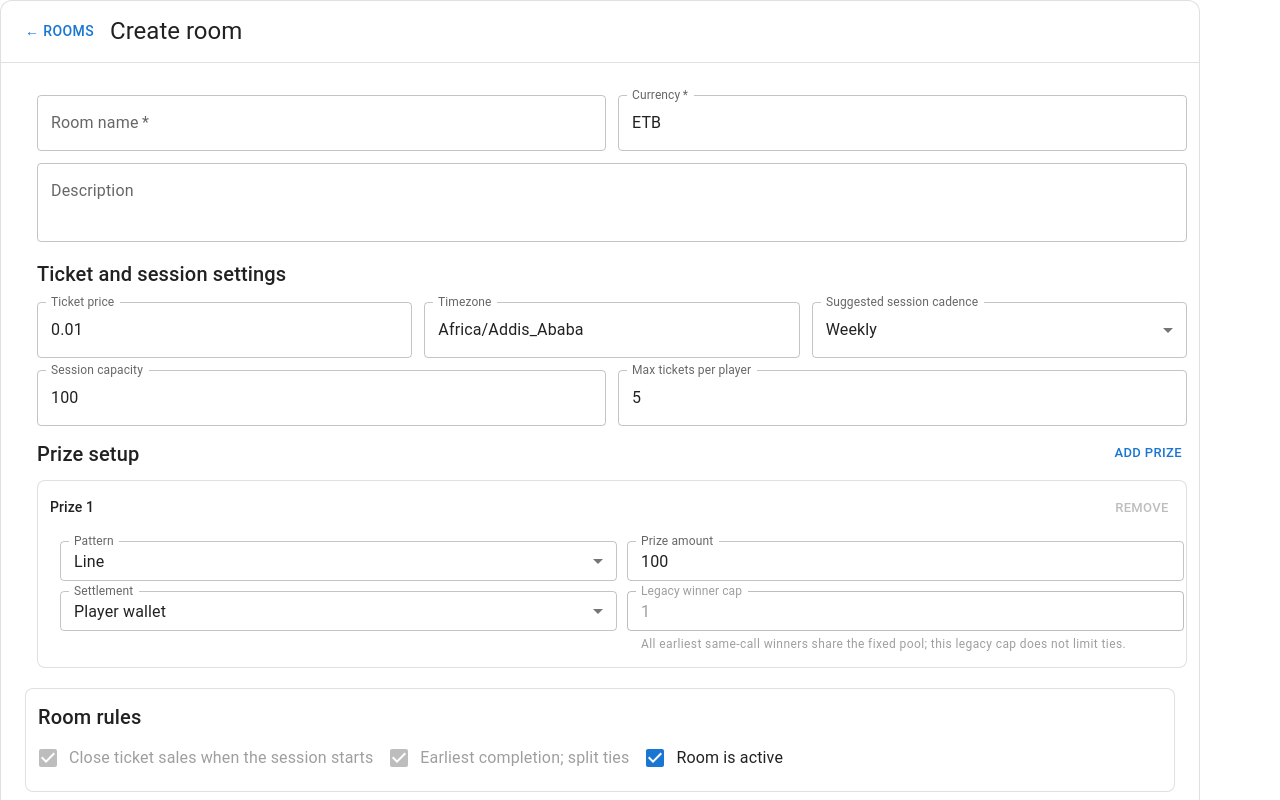
Test: RoomsPage › offers common 75-ball patterns in prize setup
What coordinates should you click on to do the following:
click the dropdown named "Pattern"
I would click on:
 (89, 561)
Its box is [74,552,104,571].
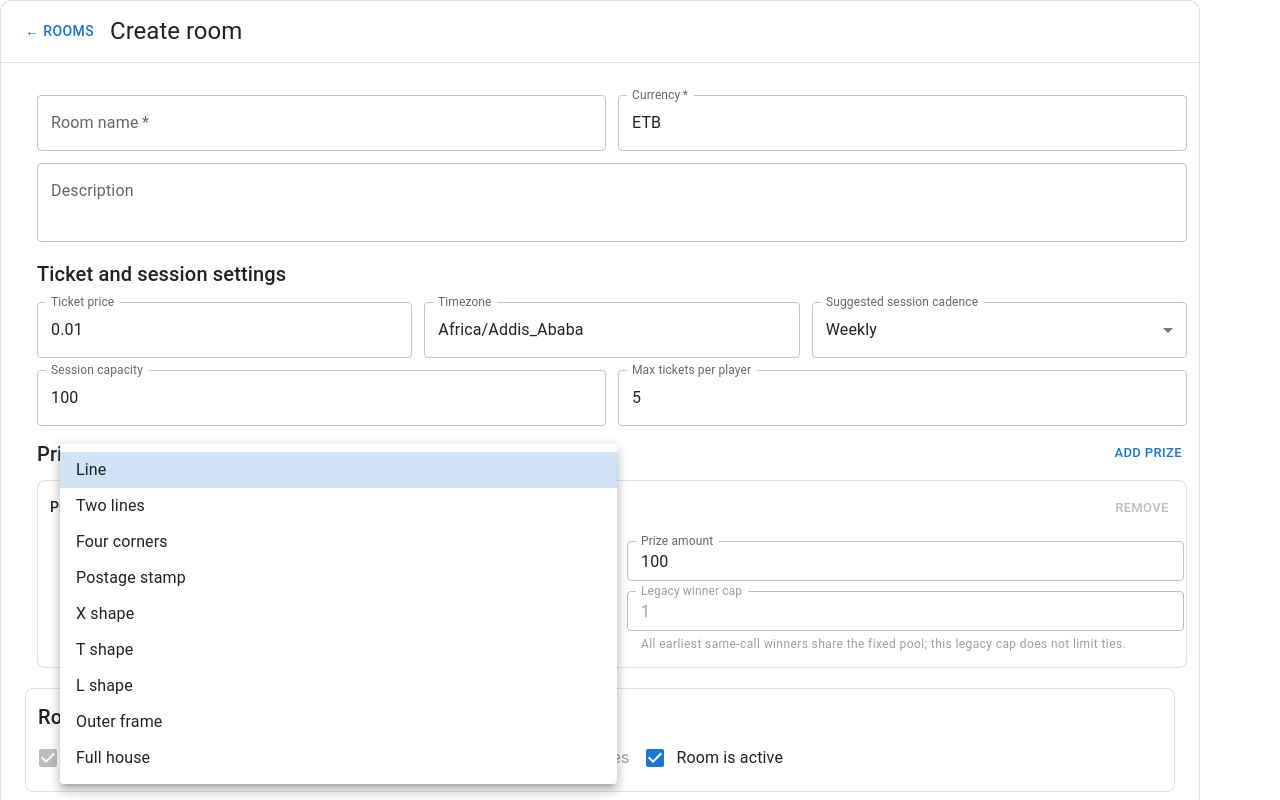
Check: the option "Four corners" is shown, box [76,532,168,551]
Check: the option "Postage stamp" is shown, box [76,568,186,587]
Check: the option "X shape" is shown, box [76,604,134,623]
